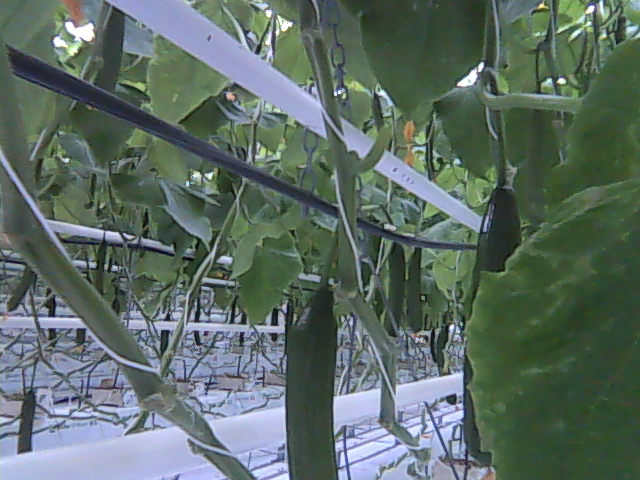concombre: (460, 172, 523, 472), (283, 274, 342, 480)
